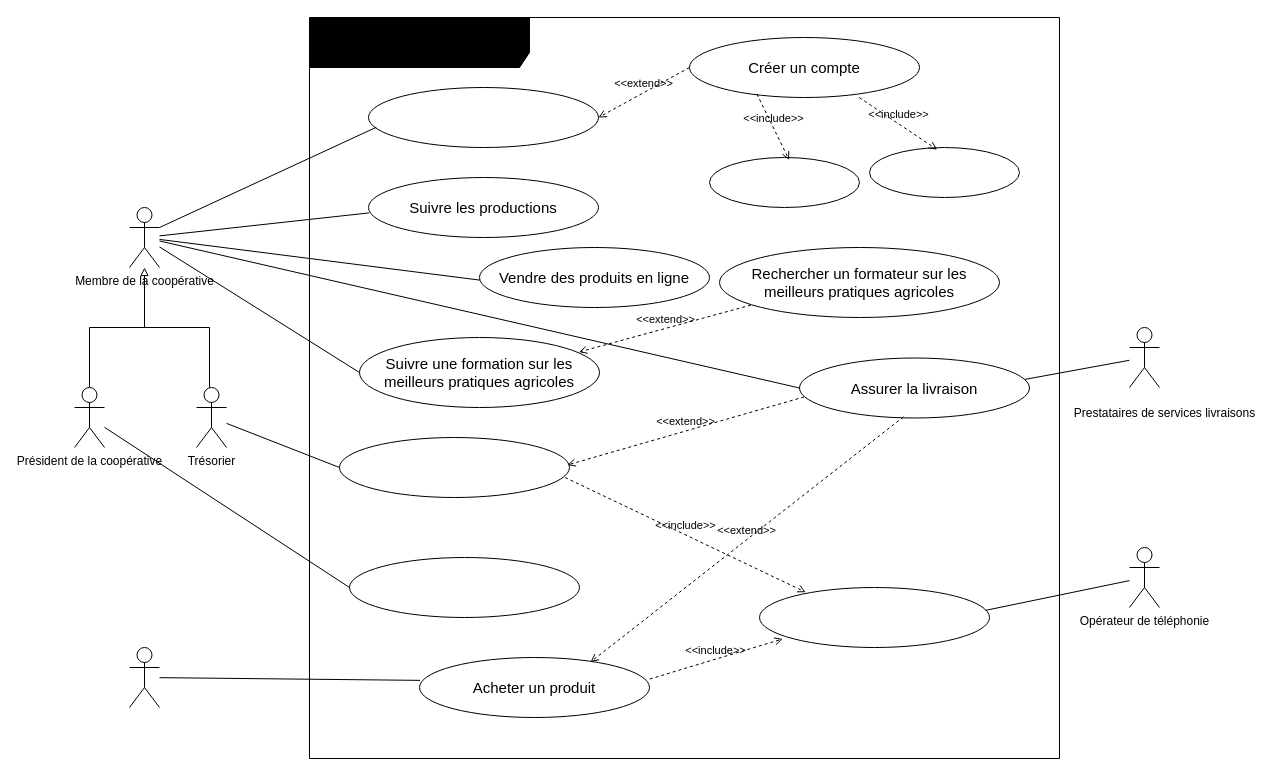
This 1272x776 diagram has some shape labels left out. Here are the shapes that lost their labels. From the top down, the centre of each, then its label:
point (483, 117): Se connecter
point (784, 182): Visiter le menu d'aide
point (944, 172): confidentialité
point (454, 467): Recevoir des payements
point (464, 587): Gérer les membres de la coopérative
point (874, 617): Assurrer la transactions
point (144, 677): Clients
